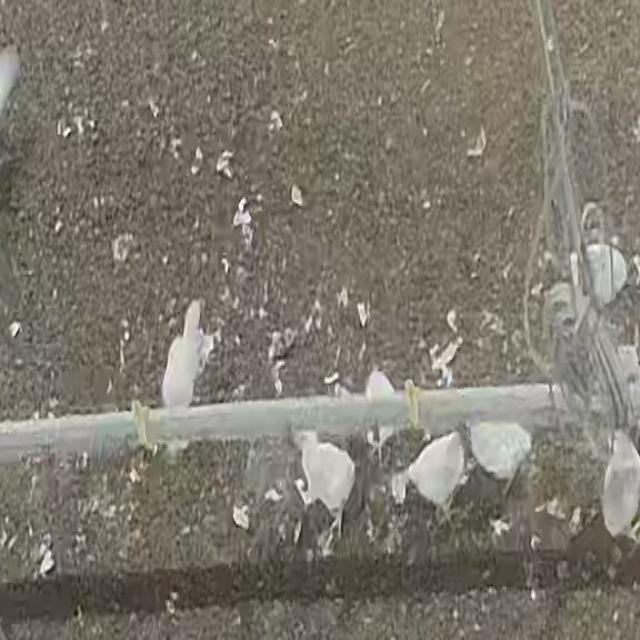chicken: (292, 425, 353, 538), (407, 432, 467, 524), (599, 431, 640, 545), (467, 423, 535, 490), (167, 300, 200, 411), (361, 373, 392, 451)
